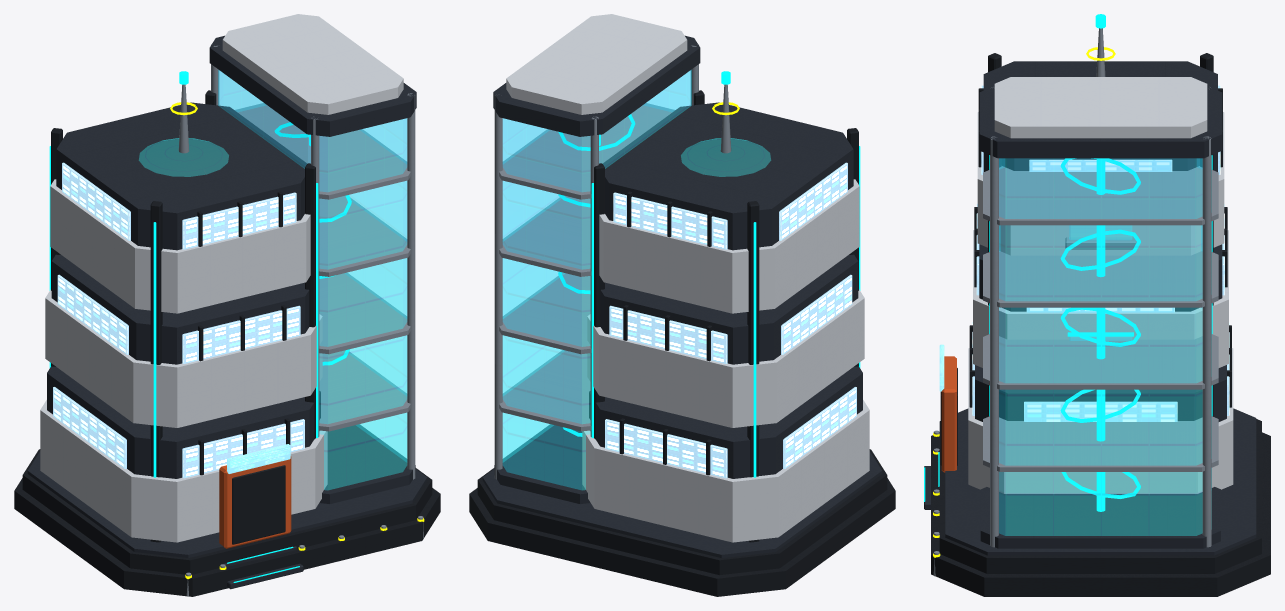
File: bldg_05_winner.glb
The picture shows the model from 3 angles, left to right: view 1: azimuth 30°, elevation 25°; view 2: azimuth 150°, elevation 25°; view 3: azimuth 270°, elevation 25°; orthographic projection. The views are drawn at different scales.
Parts seen in each view (by area): view 1: Bldg05_C02_aero_white, Bldg05_C02_carbon_slate, Bldg05_C02_glass_cyan, Bldg05_C02_gunmetal, Bldg05_C02_steel_machined, Bldg05_C02_window_lit, Bldg05_C02_led_cyan, Bldg05_C02_accent_orange, Bldg05_C02_marquee; view 2: Bldg05_C02_aero_white, Bldg05_C02_carbon_slate, Bldg05_C02_glass_cyan, Bldg05_C02_steel_machined, Bldg05_C02_gunmetal, Bldg05_C02_window_lit, Bldg05_C02_led_cyan; view 3: Bldg05_C02_glass_cyan, Bldg05_C02_steel_machined, Bldg05_C02_carbon_slate, Bldg05_C02_aero_white, Bldg05_C02_gunmetal, Bldg05_C02_window_lit, Bldg05_C02_led_cyan, Bldg05_C02_accent_orange.
Part boxes in pixels (x1,y1,x2,y2): Bldg05_C02_aero_white: (40, 14, 403, 542); Bldg05_C02_carbon_slate: (27, 35, 427, 589); Bldg05_C02_glass_cyan: (139, 70, 407, 490); Bldg05_C02_gunmetal: (14, 90, 440, 596); Bldg05_C02_steel_machined: (178, 44, 423, 596); Bldg05_C02_window_lit: (53, 162, 304, 478); Bldg05_C02_led_cyan: (49, 71, 351, 582); Bldg05_C02_accent_orange: (219, 456, 291, 548); Bldg05_C02_marquee: (227, 444, 290, 473); Bldg05_C02_aero_white: (506, 14, 869, 542); Bldg05_C02_carbon_slate: (482, 35, 882, 558); Bldg05_C02_glass_cyan: (502, 70, 770, 490); Bldg05_C02_steel_machined: (494, 44, 731, 479); Bldg05_C02_gunmetal: (469, 90, 895, 596); Bldg05_C02_window_lit: (605, 162, 856, 478); Bldg05_C02_led_cyan: (558, 71, 860, 477); Bldg05_C02_glass_cyan: (999, 155, 1211, 535); Bldg05_C02_steel_machined: (933, 28, 1218, 576); Bldg05_C02_carbon_slate: (924, 61, 1256, 555); Bldg05_C02_aero_white: (968, 77, 1233, 493); Bldg05_C02_gunmetal: (931, 53, 1270, 596); Bldg05_C02_window_lit: (972, 85, 1229, 421); Bldg05_C02_led_cyan: (924, 14, 1212, 511); Bldg05_C02_accent_orange: (941, 356, 956, 472).
Bounding box in the file's own units: 12 × 16.22 × 10.71.
Materials: 11 (11 with a texture image).
